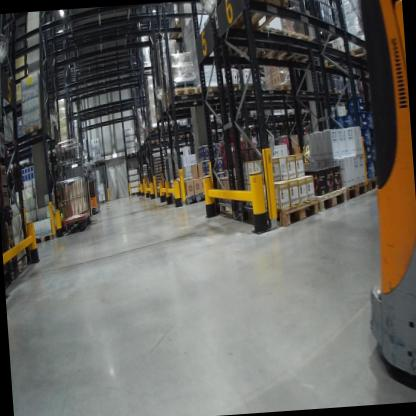pallet: (239, 195, 321, 232), (221, 0, 290, 40), (237, 22, 287, 65), (213, 23, 260, 61), (323, 39, 369, 73), (270, 25, 313, 61), (314, 184, 347, 214), (21, 120, 51, 150), (165, 17, 192, 49), (173, 187, 210, 209), (167, 82, 204, 102), (343, 178, 368, 204), (214, 198, 239, 222), (360, 172, 382, 197), (197, 81, 228, 98), (35, 228, 60, 246), (239, 79, 260, 95), (274, 84, 295, 99), (148, 122, 168, 133), (171, 133, 187, 143), (148, 137, 164, 145), (130, 189, 140, 198), (124, 150, 136, 156), (99, 199, 109, 206)
pallet_truck: (340, 0, 416, 388), (84, 157, 107, 224)
